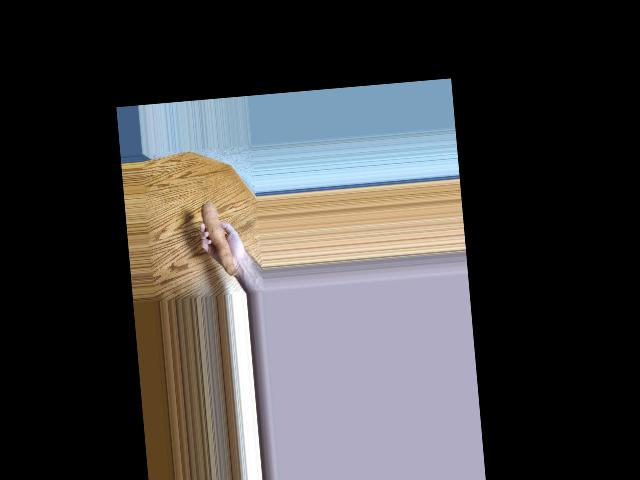sweet_potato: (199, 203, 233, 274)
